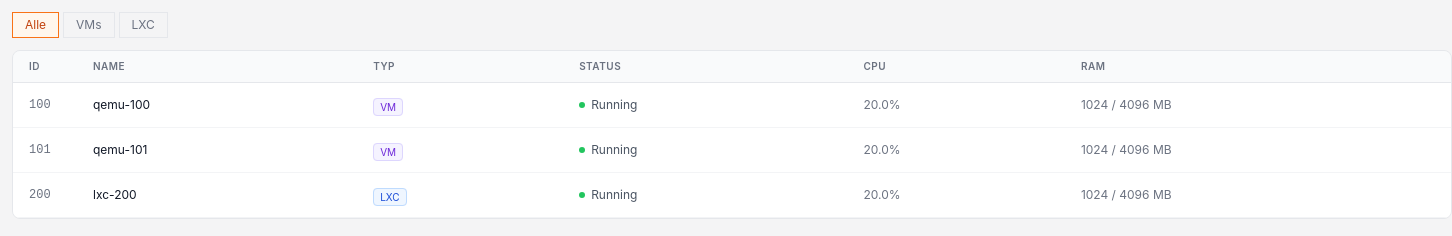
Test: ComputeVmSection › AC-4: LXC filter shows only lxc entries
Click the button "LXC". click: (143, 25)
box: x1=118 y1=12 x2=168 y2=38
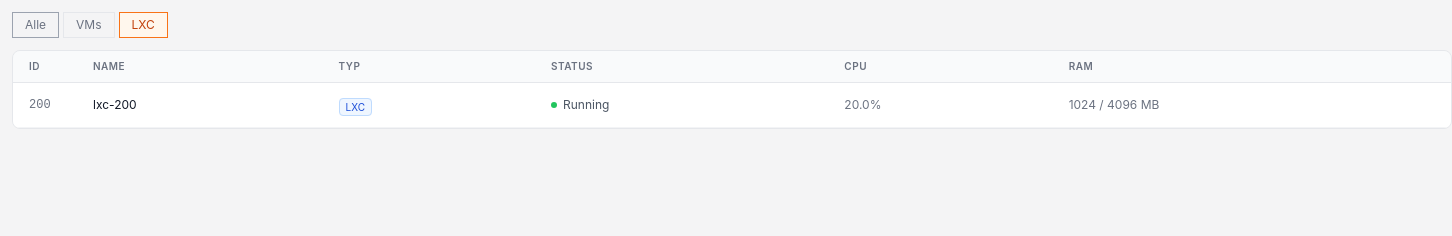
Check: the text "lxc-200" is shown, box x1=77 y1=82 x2=322 y2=128
Check: the text "qemu-100" is gone
